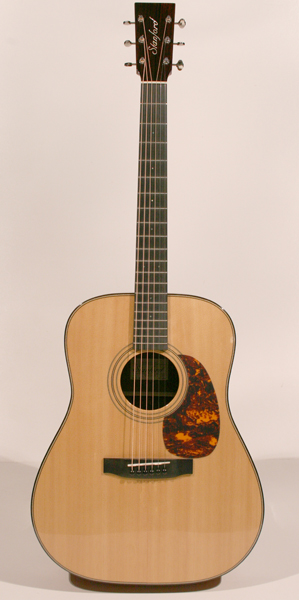guitar: (31, 2, 265, 586)
